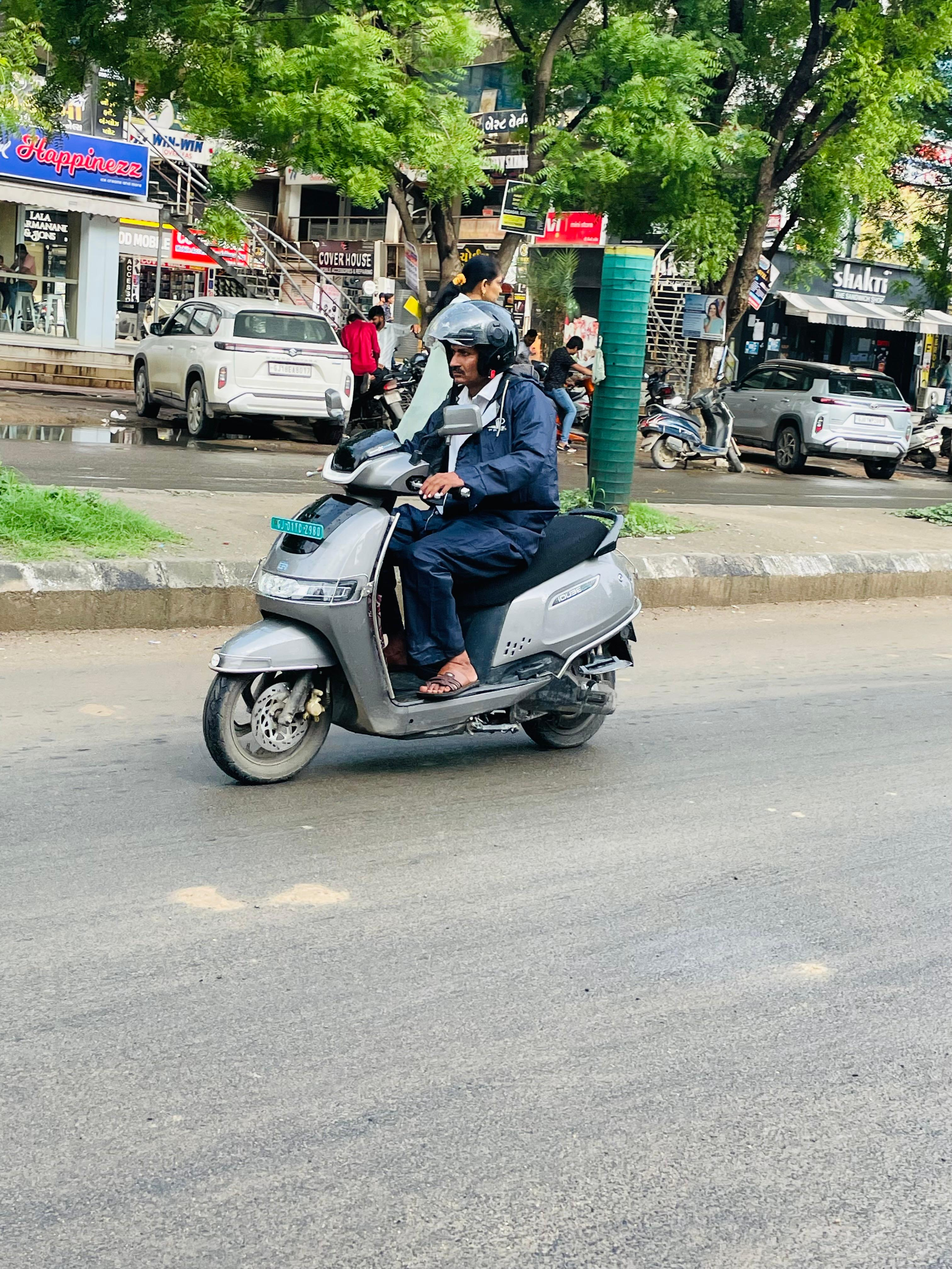BikeWithRider: (192, 292, 654, 796)
Helmet: (429, 293, 527, 393)
